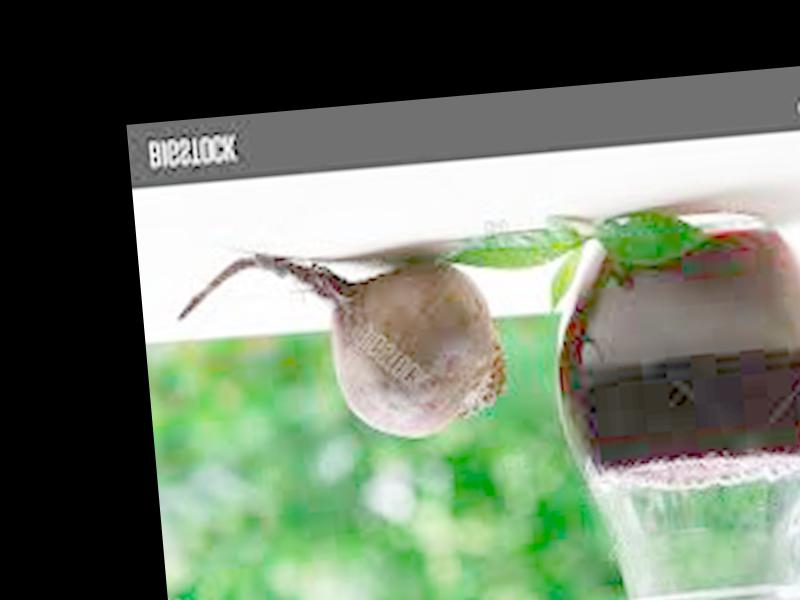Beet: (175, 232, 508, 453)
